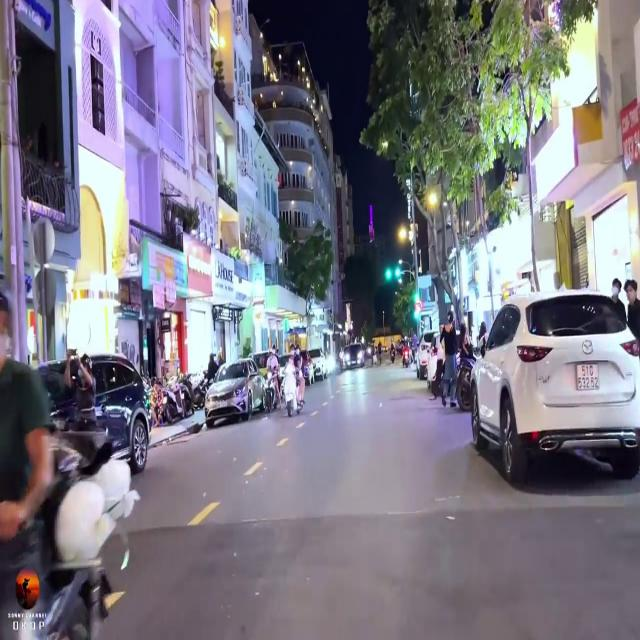bien_trang: (576, 362, 602, 392)
